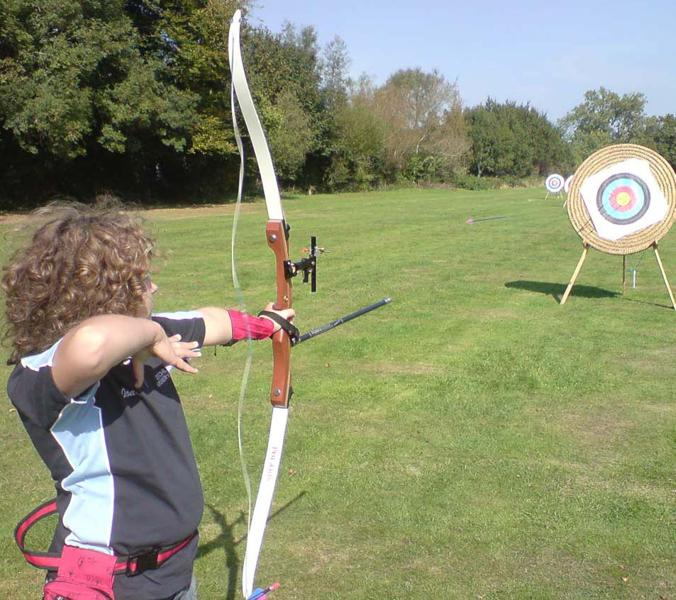person: (3, 189, 297, 600)
